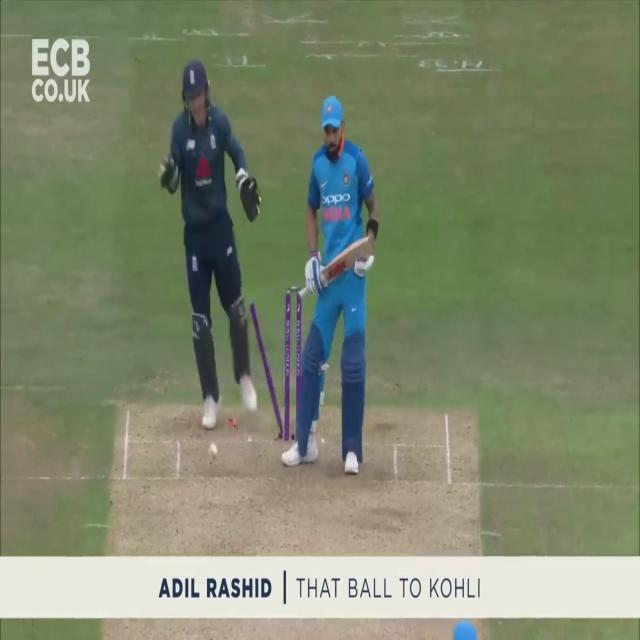cricketBall: (208, 441, 219, 462)
